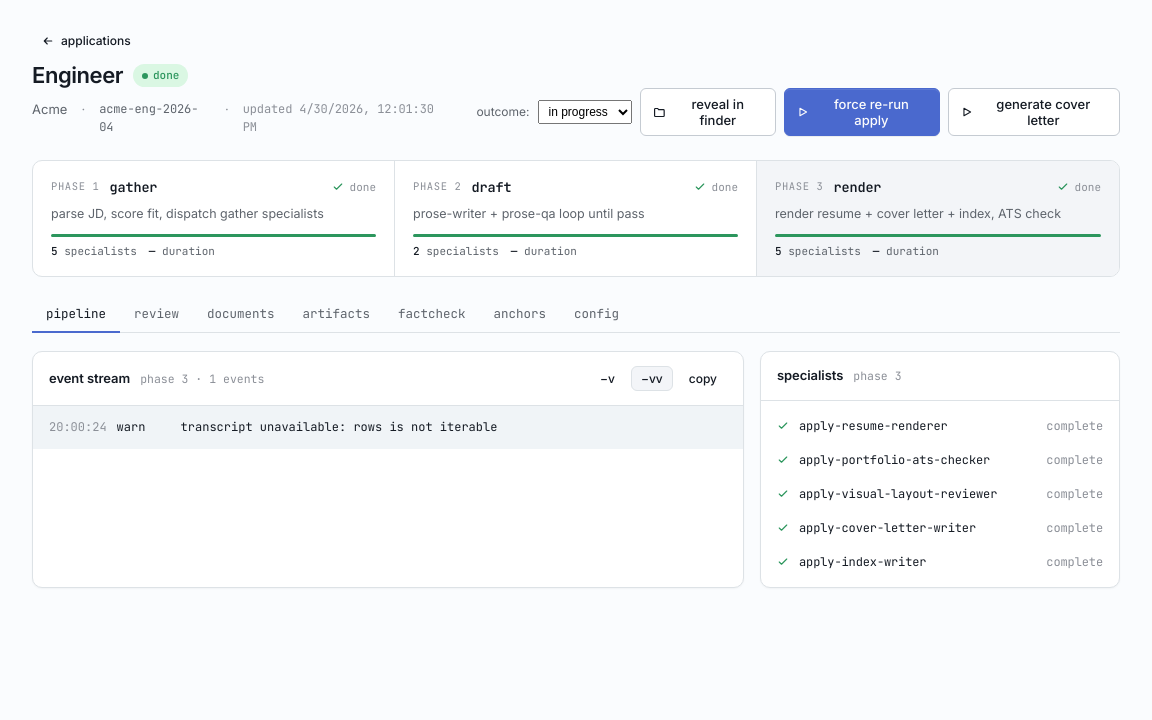
Test case: Cover letter manual edit routes through review panel (feat-5aa36278) › after clicking "review change", the diff panel appears for the cover letter proposal
The image size is (1152, 720).
Click the text "review" at {"x": 156, "y": 313}, box [134,304,179,322]
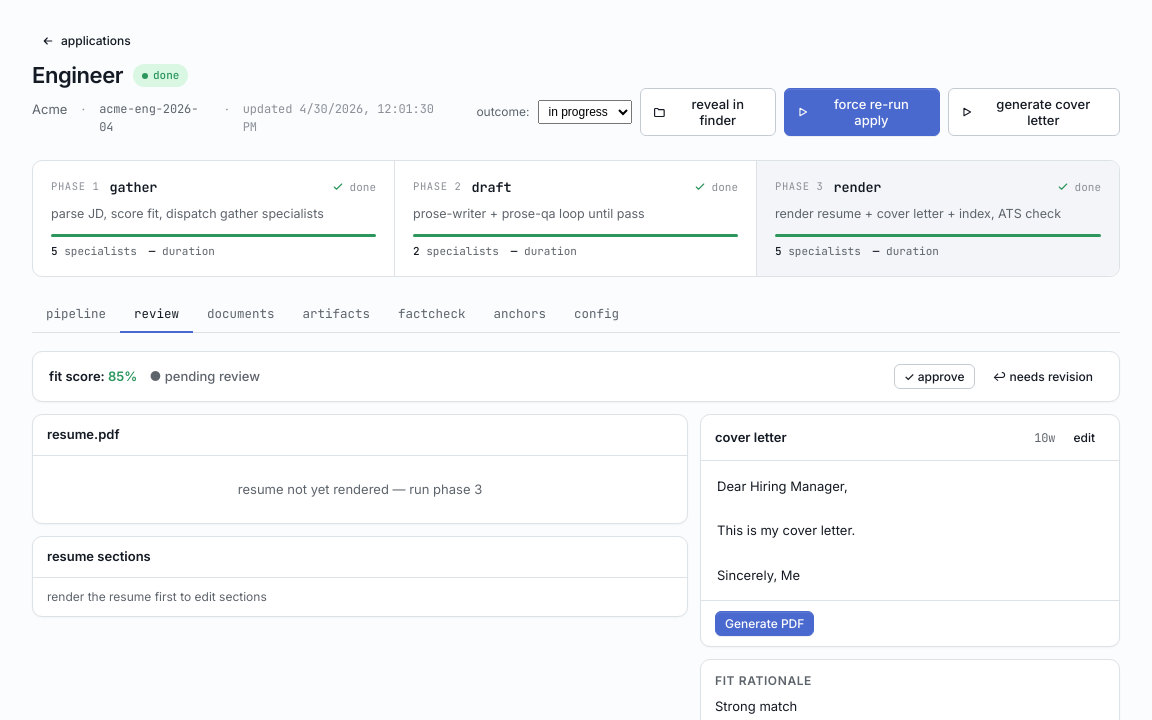
Click the button "edit" at {"x": 1084, "y": 438}, box [1063,425,1105,450]
(page scrolled)
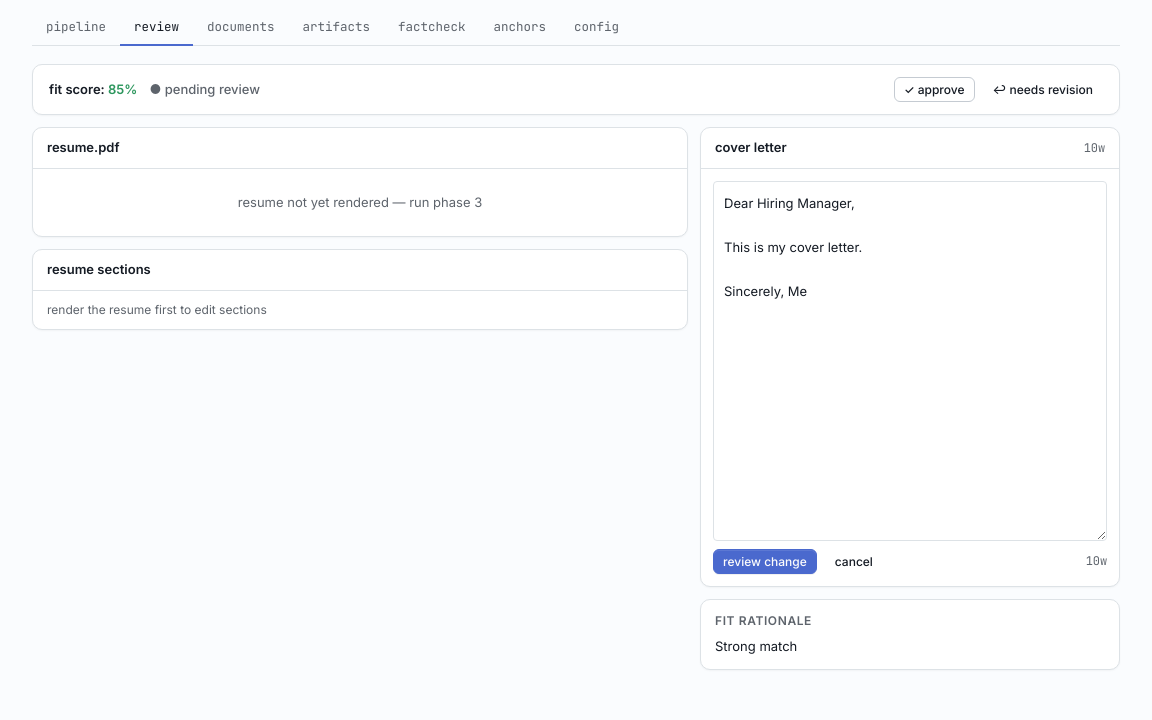
Replace the text in the text box with "New cover letter text" at {"x": 910, "y": 361}, box [713,181,1107,541]
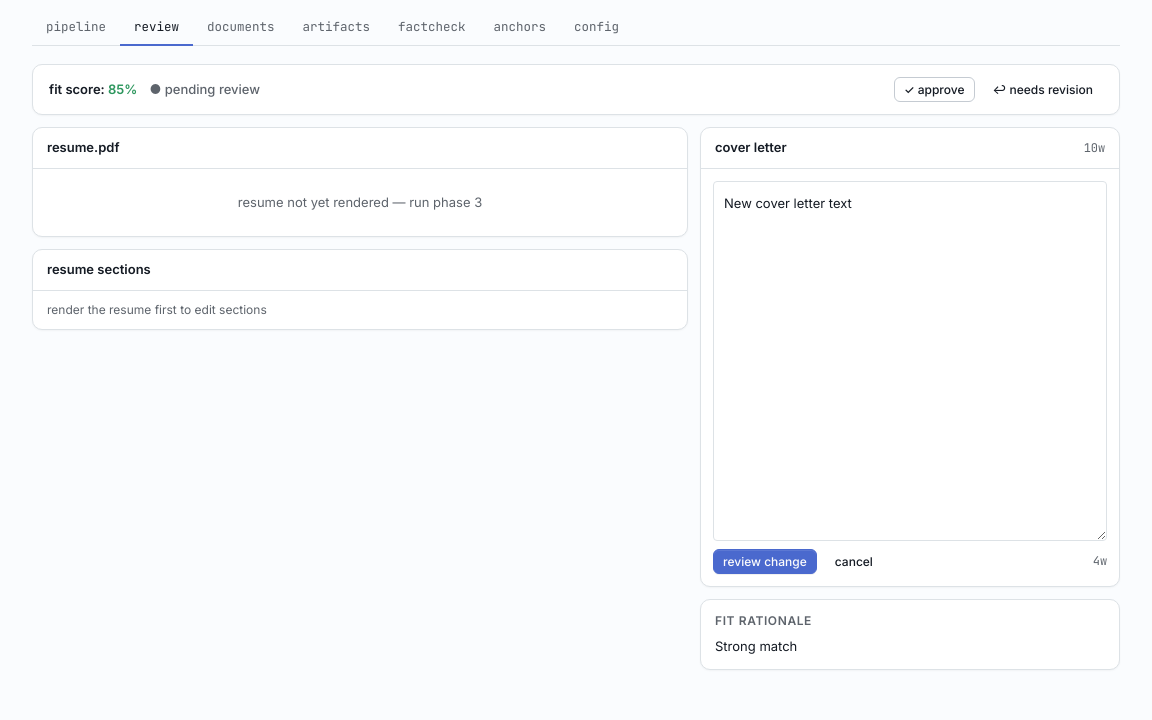
Click the button "review change" at {"x": 765, "y": 561}, box [713,549,817,574]
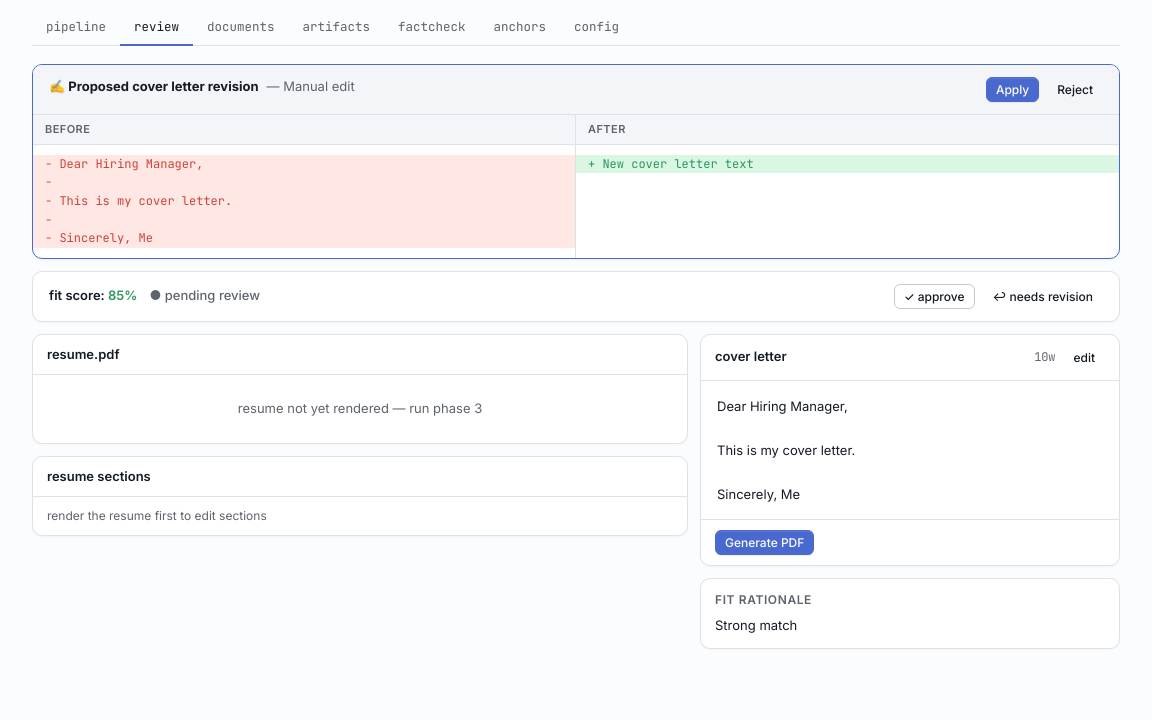
Expected: the element "Proposed cover letter revision" is shown, [32,64,1120,259]
